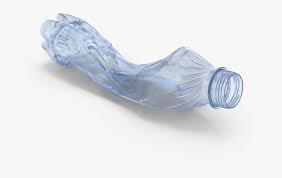plastic: (41, 9, 239, 111)
